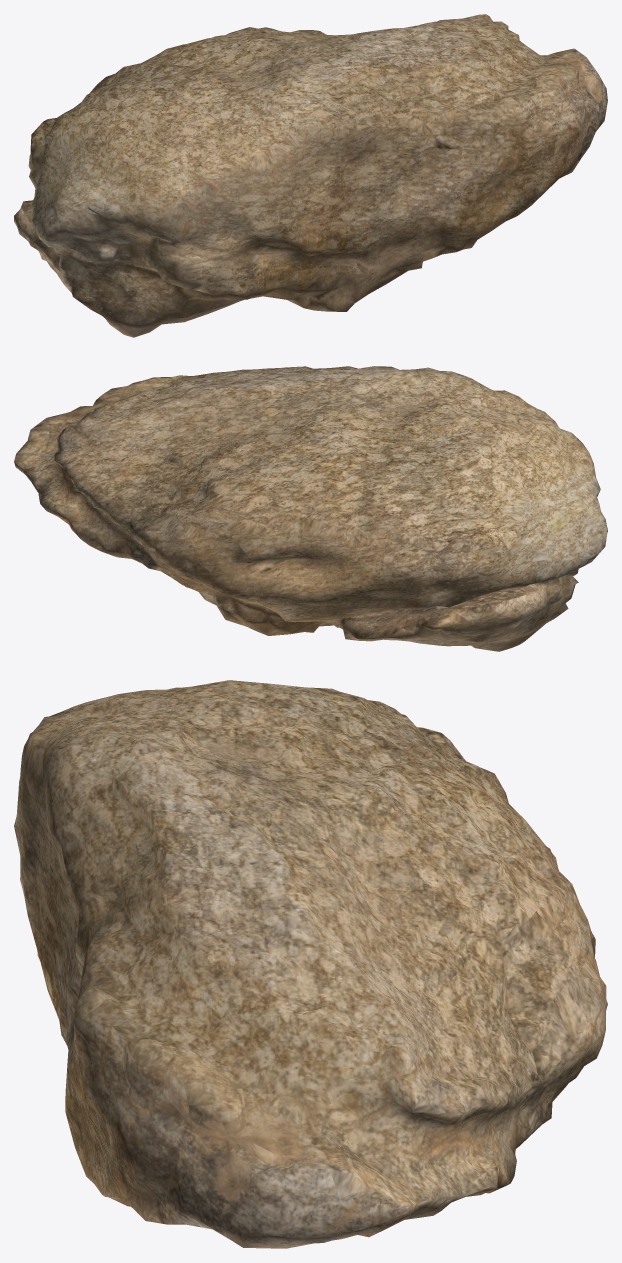
File: rock_flat.glb
3 renders of one model, top to bottom at view 1: azimuth 30°, elevation 25°; view 2: azimuth 150°, elevation 25°; view 3: azimuth 270°, elevation 25°, orthographic. The views are drawn at different scales.
Parts seen in each view (by area): view 1: rock_flat; view 2: rock_flat; view 3: rock_flat.
Part boxes in pixels (left/top/right/bottom): rock_flat: left=14, top=14, right=607, bottom=337; rock_flat: left=14, top=366, right=607, bottom=651; rock_flat: left=14, top=680, right=607, bottom=1248.
Bounding box in the file's own units: 1.36 × 0.5365 × 0.7456.
1 material, 1 textured.
